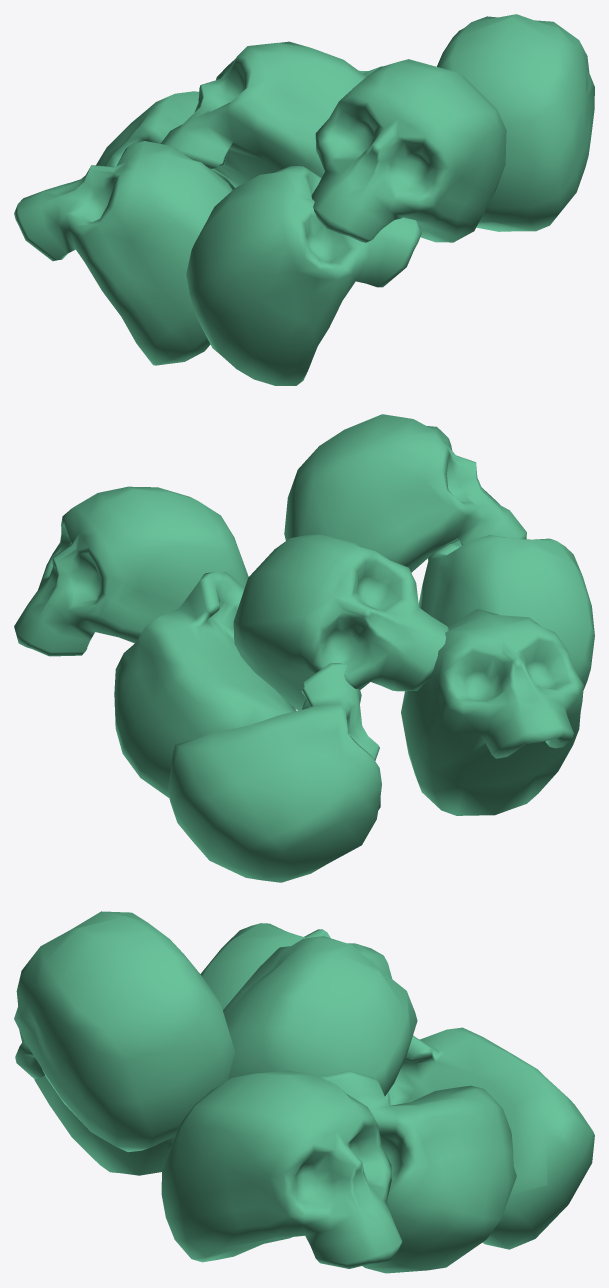
Rendered from Bones_Barrel_01_Lod1.fbx.
3 renders of one model, top to bottom at view 1: azimuth 30°, elevation 25°; view 2: azimuth 150°, elevation 25°; view 3: azimuth 270°, elevation 25°, orthographic. The views are drawn at different scales.
Visible parts, largest first — view 1: Bones_Barrel_01_Lod1; view 2: Bones_Barrel_01_Lod1; view 3: Bones_Barrel_01_Lod1.
Boxes of the visible parts, <box> form: Bones_Barrel_01_Lod1: <box>14,14,594,385</box>; Bones_Barrel_01_Lod1: <box>14,414,594,882</box>; Bones_Barrel_01_Lod1: <box>14,911,594,1273</box>.
Bounding box in the file's own units: 51.59 × 28.34 × 43.95.
